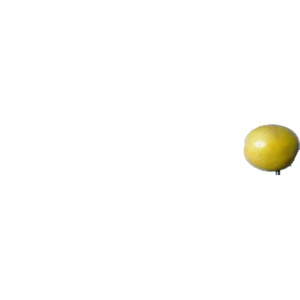maracujá: (244, 124, 300, 175)
